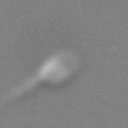normal: (1, 74, 39, 105)
